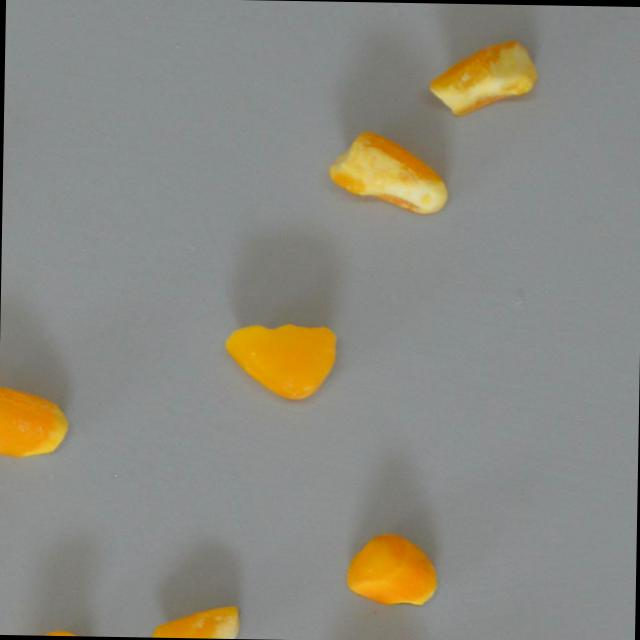estandar: (223, 320, 337, 397), (344, 530, 437, 605)
pelicula: (326, 128, 450, 214), (426, 36, 538, 115), (0, 382, 69, 457), (150, 601, 239, 639)
